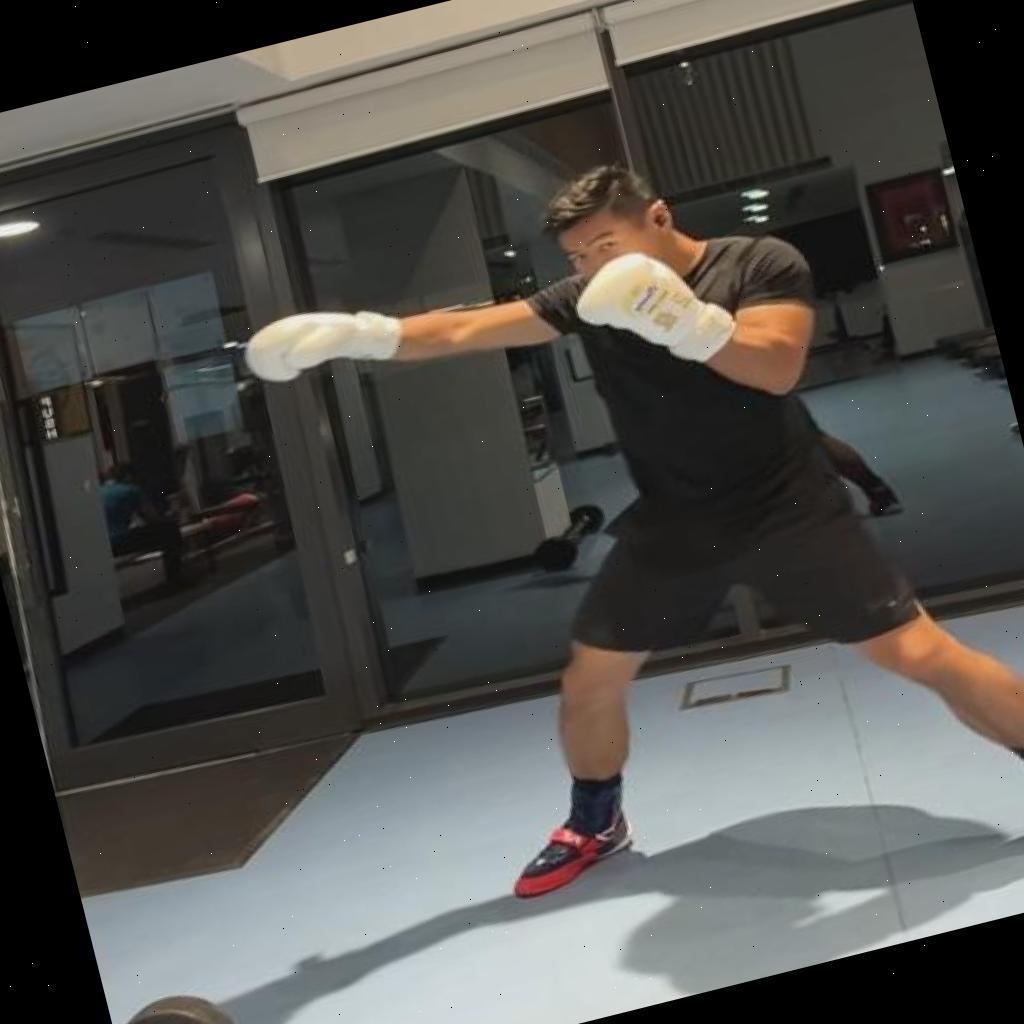jab: (211, 73, 1024, 1024)
